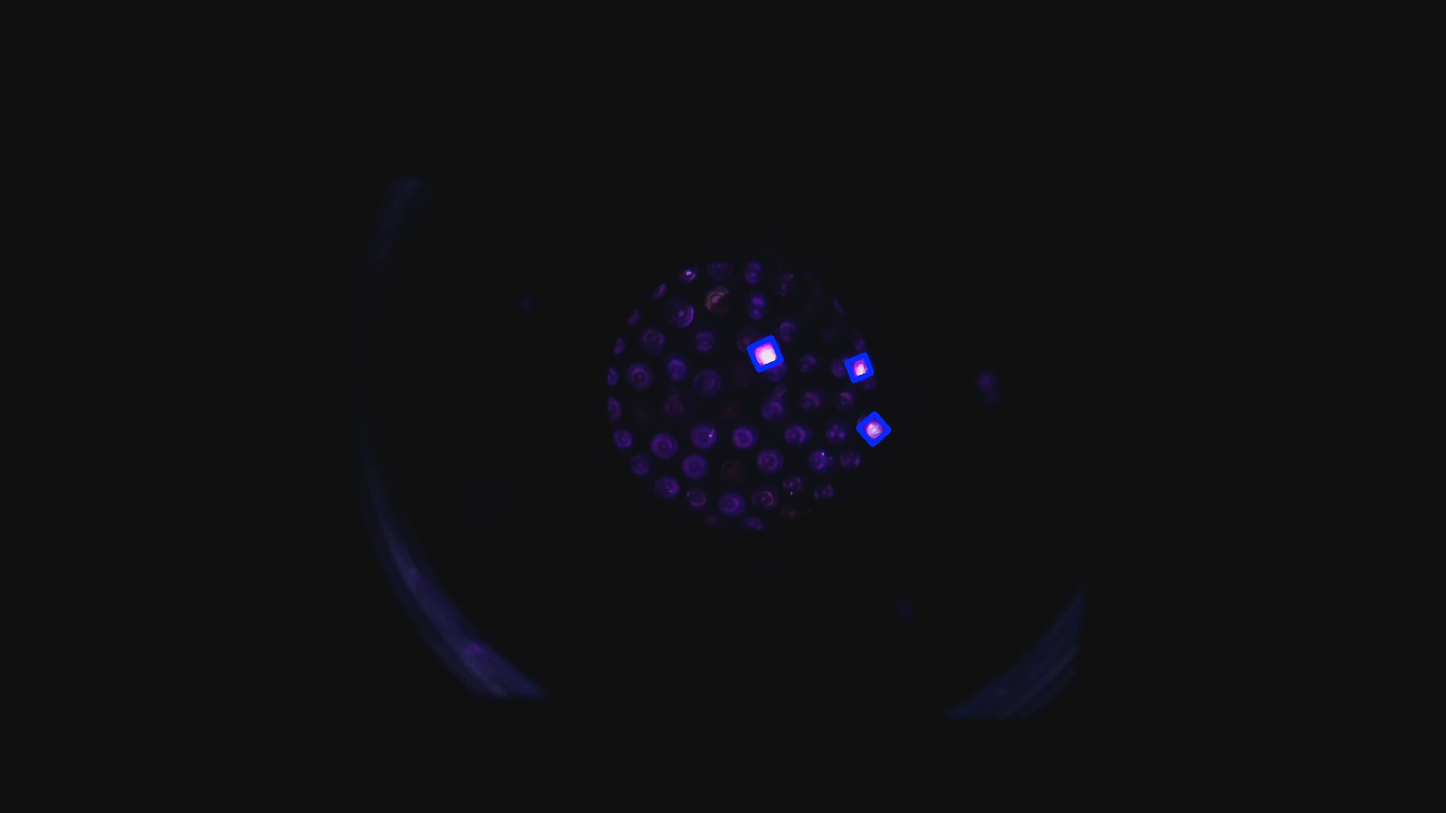plastic: (851, 407, 896, 451), (743, 332, 787, 376), (843, 351, 876, 384)
